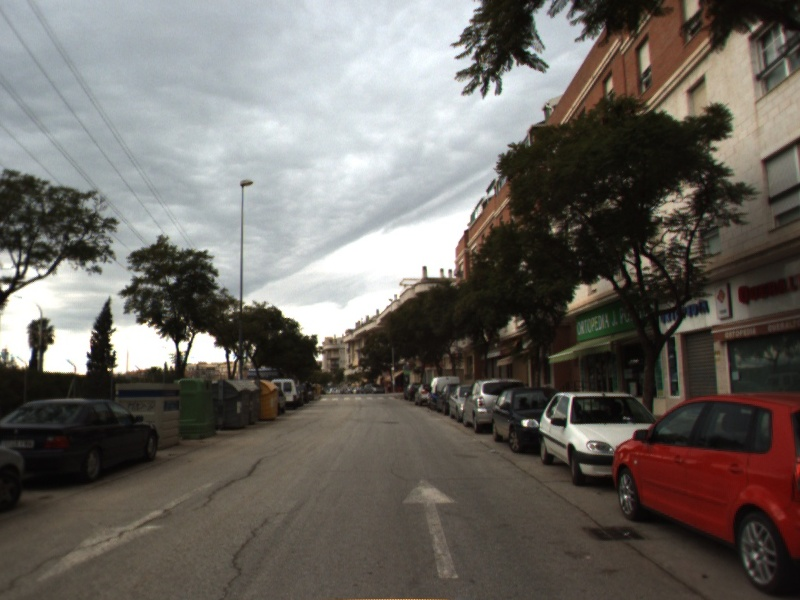STRAIGHT: (399, 475, 464, 582)
